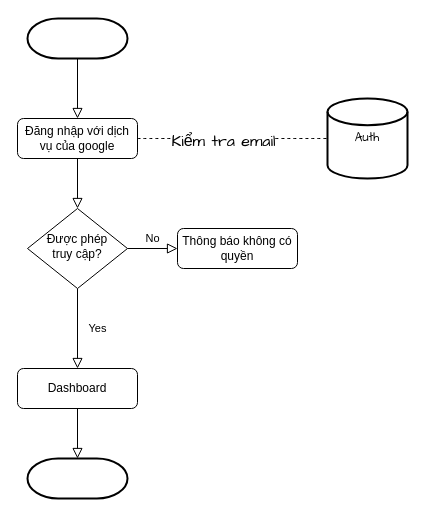
Some shapes in this 426 by 516 pixel diagram are drawn without their labels. Each missing label, with the centre of its shape:
"Bắt đầu" belongs at (77,38).
"Kết thúc" belongs at (77,478).
